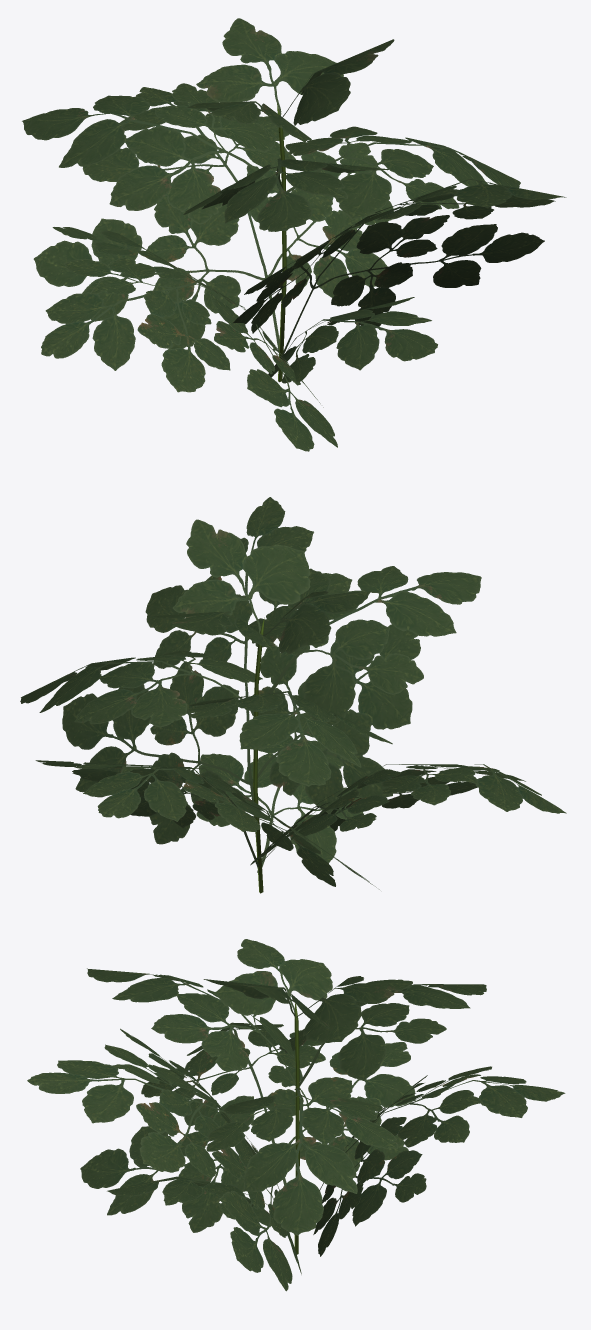
The model's file is MSH_fwOF_ForestPlant_B_02.fbx.
The picture shows the model from 3 angles, top to bottom: view 1: azimuth 30°, elevation 25°; view 2: azimuth 150°, elevation 25°; view 3: azimuth 270°, elevation 25°; orthographic projection. The views are drawn at different scales.
Parts seen in each view (by area): view 1: MSH_fwOF_ForestPlant_B_02; view 2: MSH_fwOF_ForestPlant_B_02; view 3: MSH_fwOF_ForestPlant_B_02.
Boxes of the visible parts, x1,y1,x2,y2 form: MSH_fwOF_ForestPlant_B_02: (22, 18, 566, 451); MSH_fwOF_ForestPlant_B_02: (20, 497, 566, 893); MSH_fwOF_ForestPlant_B_02: (27, 939, 565, 1291).
Bounding box in the file's own units: 0.8742 × 0.5335 × 0.8802.
